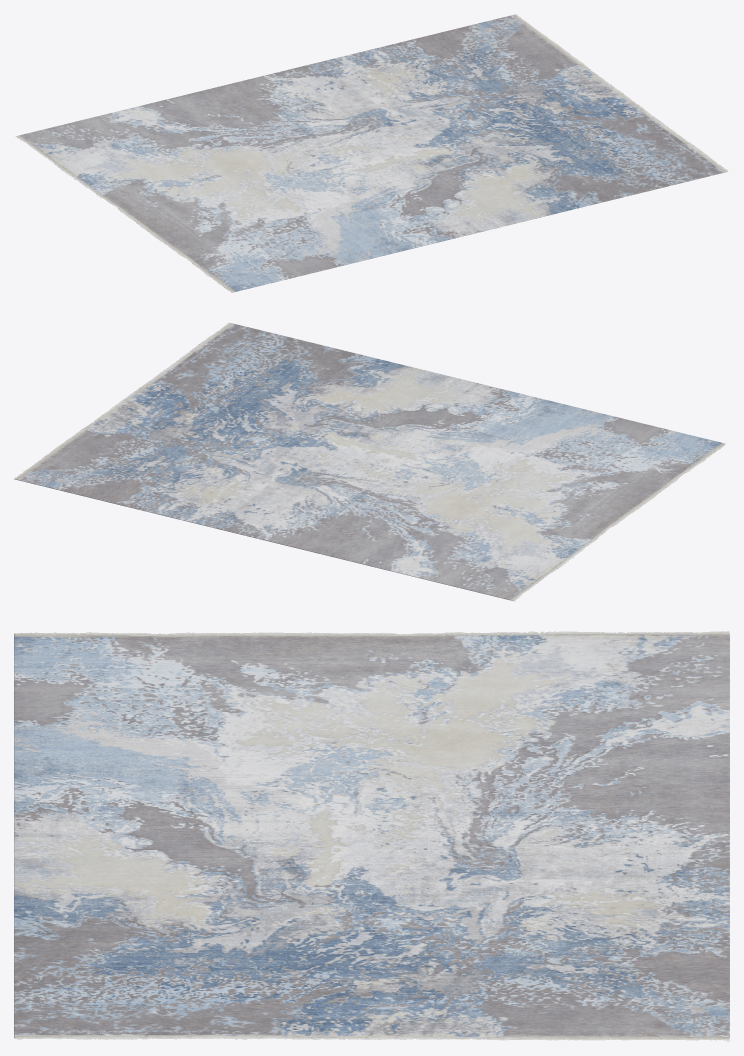
The model's file is rug.gltf.
The picture shows the model from 3 angles, top to bottom: view 1: azimuth 30°, elevation 25°; view 2: azimuth 150°, elevation 25°; view 3: azimuth 270°, elevation 25°; orthographic projection. The views are drawn at different scales.
Visible parts, largest first — view 1: Plane; view 2: Plane; view 3: Plane.
Part boxes in pixels (x1,y1,x2,y2): Plane: [15, 14, 727, 292]; Plane: [14, 322, 725, 601]; Plane: [14, 631, 729, 1041].
Size of the model in its own units: 3.69 by 0.00514 by 2.72.
1 material, 1 textured.
